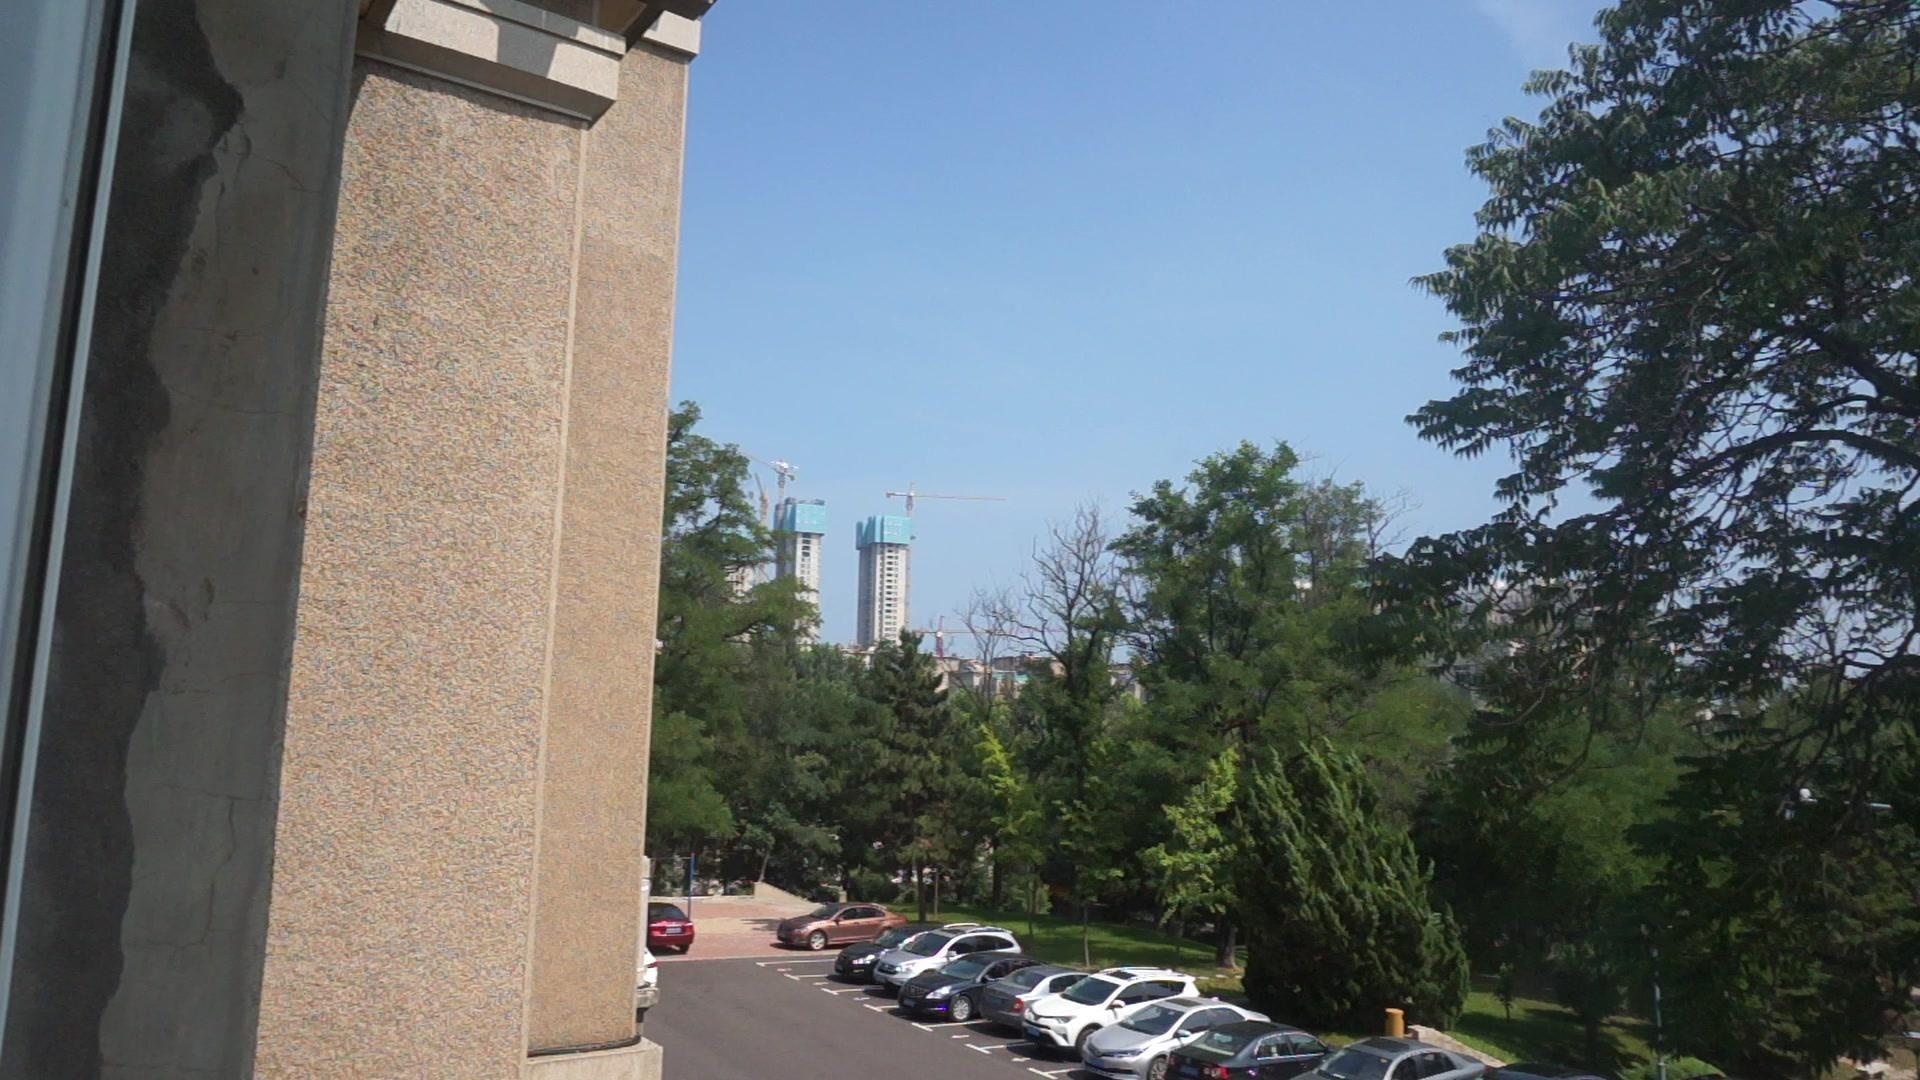UAV: (770, 462, 800, 472)
